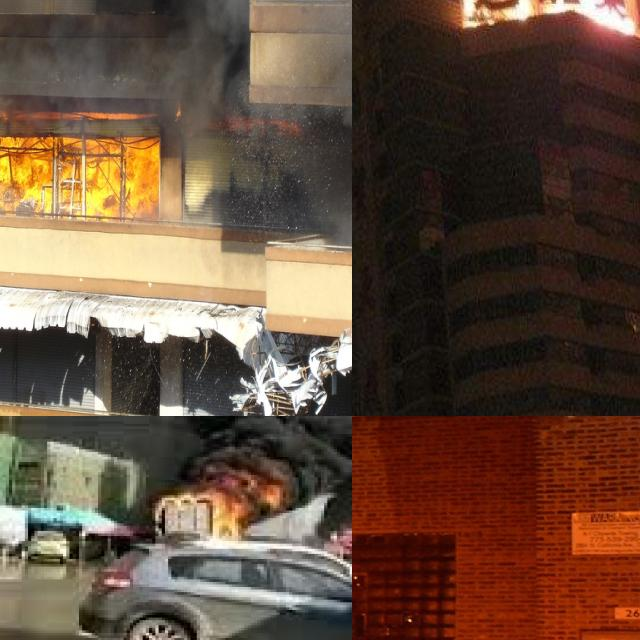fire: (146, 462, 311, 572), (0, 117, 163, 224), (457, 0, 640, 43)
smoke: (0, 0, 352, 128), (324, 193, 352, 249)
